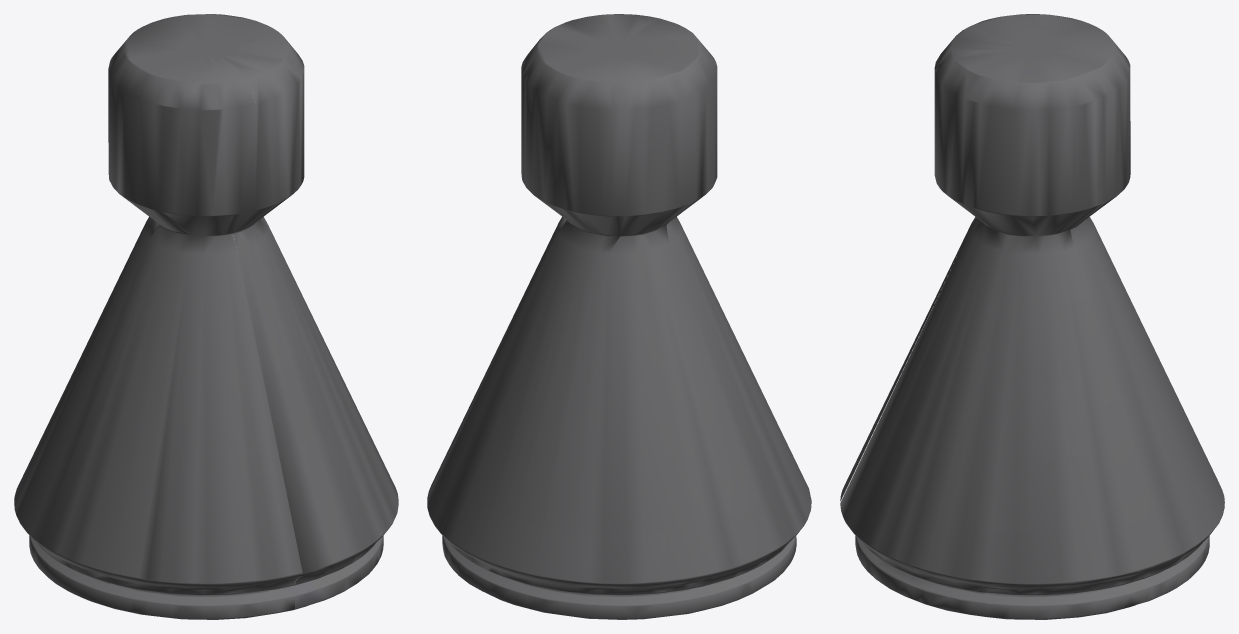
Rendered from 06_pesec_cerna.glb.
3 views of the same model, side by side, from view 1: azimuth 30°, elevation 25°; view 2: azimuth 150°, elevation 25°; view 3: azimuth 270°, elevation 25° (orthographic).
Parts seen in each view (by area): view 1: 06_pesec_cerna; view 2: 06_pesec_cerna; view 3: 06_pesec_cerna.
Part boxes in pixels (left/top/right/bottom): 06_pesec_cerna: left=14, top=14, right=398, bottom=619; 06_pesec_cerna: left=427, top=14, right=811, bottom=619; 06_pesec_cerna: left=840, top=14, right=1224, bottom=619.
Size of the model in its own units: 0.0364 by 0.052 by 0.0364.
1 material, 1 textured.
